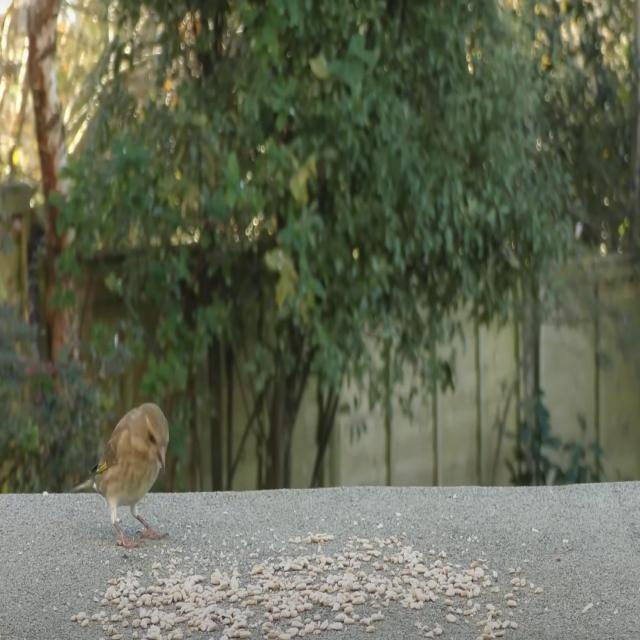beak: (155, 443, 167, 474)
bird: (74, 391, 172, 551)
